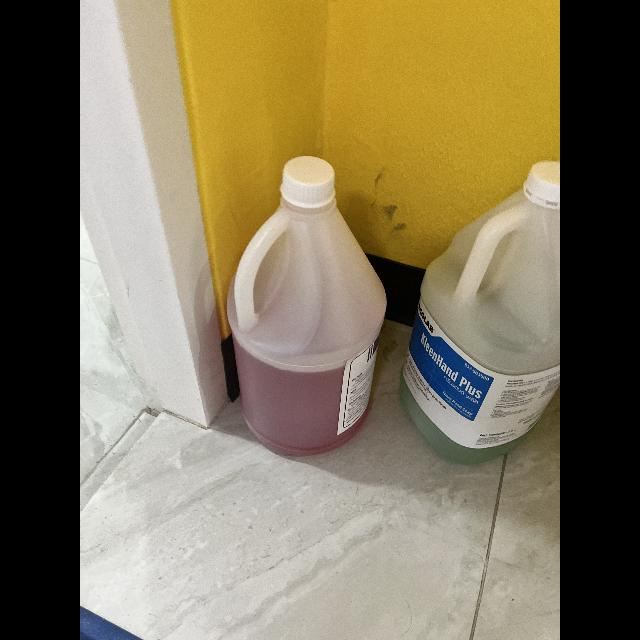chemical_plastic_gallon: (223, 153, 391, 459), (400, 154, 560, 474)
